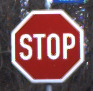stopsign: (11, 9, 85, 83)
